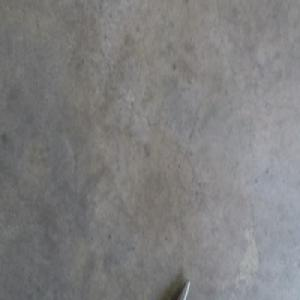Pliers: (175, 280, 190, 299)
